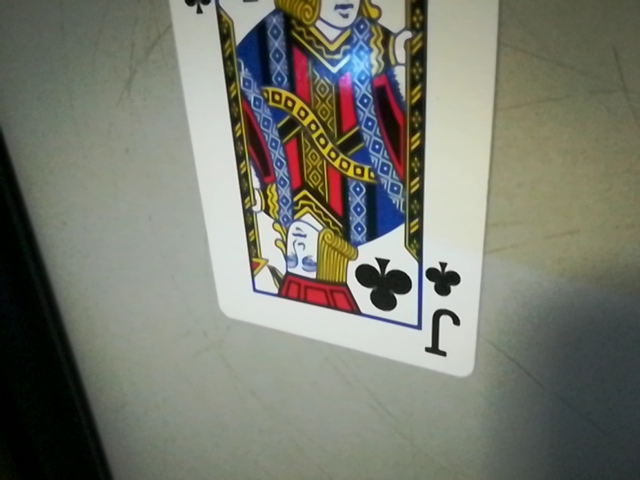mh j: (414, 256, 477, 367)
